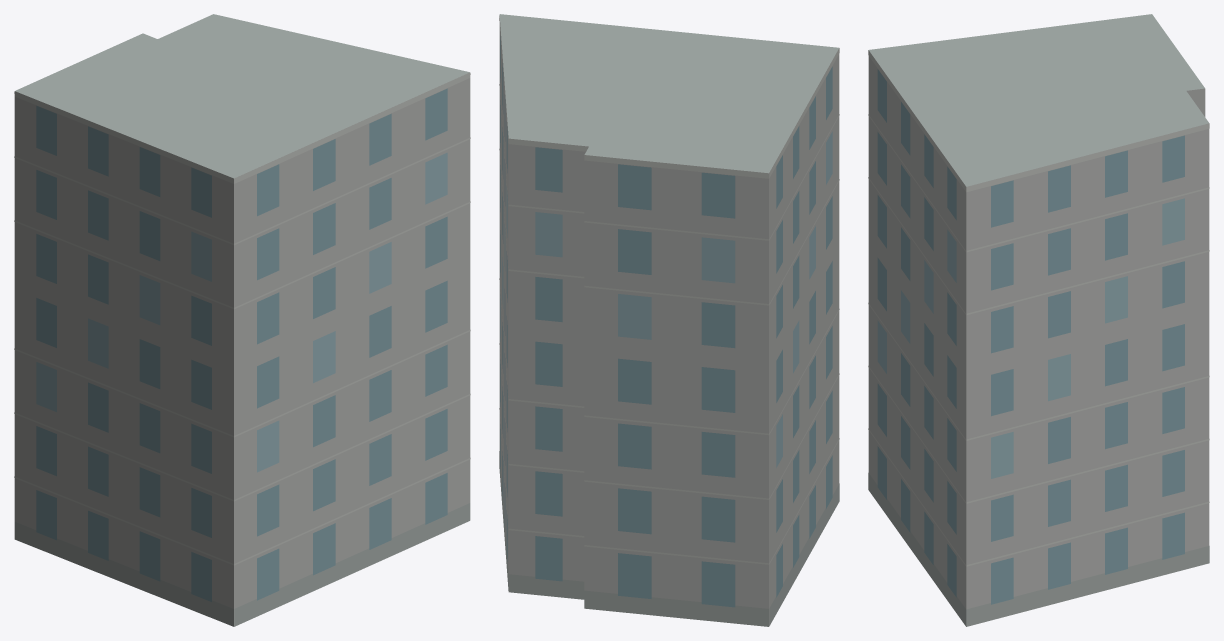
File: survey-upis-32929822.glb
The picture shows the model from 3 angles, left to right: view 1: azimuth 30°, elevation 25°; view 2: azimuth 150°, elevation 25°; view 3: azimuth 270°, elevation 25°; orthographic projection. The views are drawn at different scales.
Visible parts, largest first — view 1: survey-upis-32929822.tmp; view 2: survey-upis-32929822.tmp; view 3: survey-upis-32929822.tmp.
Part boxes in pixels (x1,y1,x2,y2): survey-upis-32929822.tmp: (14,14,470,626); survey-upis-32929822.tmp: (499,14,839,626); survey-upis-32929822.tmp: (868,14,1209,626).
Bounding box in the file's own units: 16.71 × 19.8 × 13.93.
